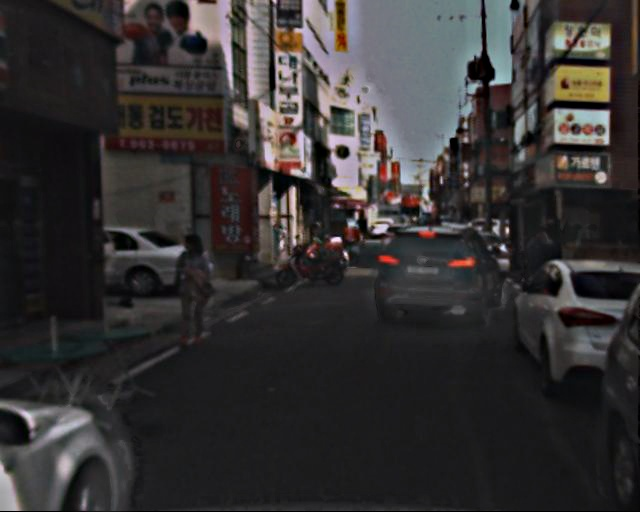person: (168, 228, 224, 350), (528, 224, 567, 311)
